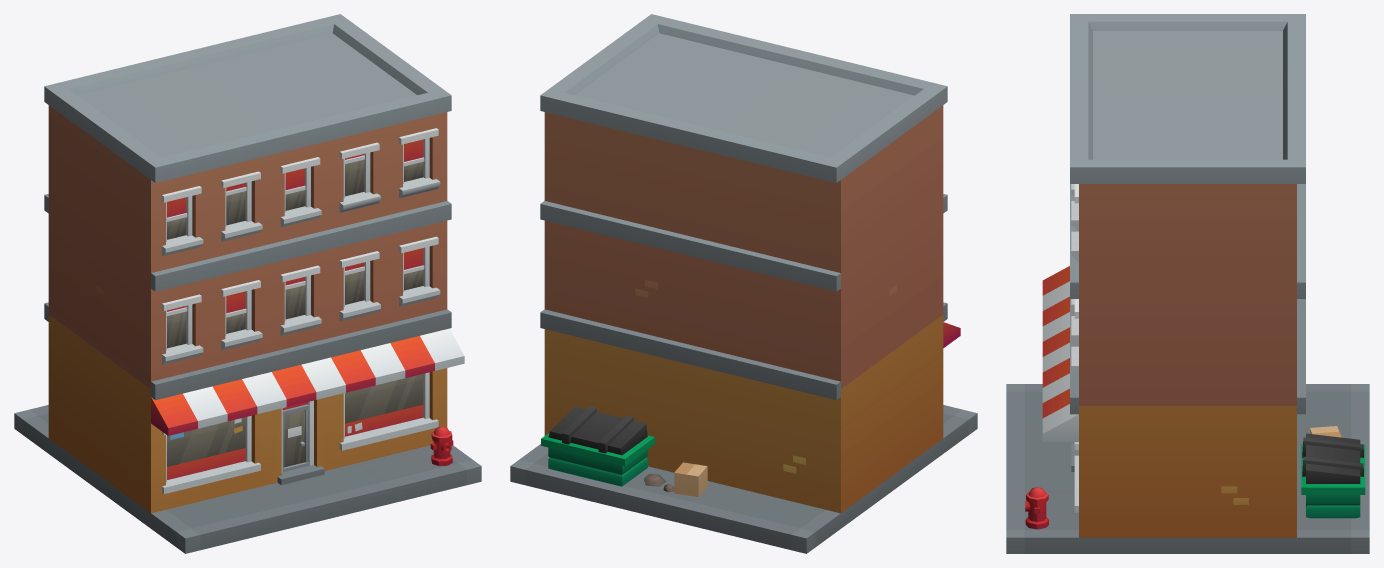
The model's file is town-building.glb.
3 views of the same model, side by side, from view 1: azimuth 30°, elevation 25°; view 2: azimuth 150°, elevation 25°; view 3: azimuth 270°, elevation 25° (orthographic). The views are drawn at different scales.
Visible parts, largest first — view 1: building_E; view 2: building_E; view 3: building_E.
Part boxes in pixels (x1,y1,x2,y2): building_E: (14,14,481,553); building_E: (510,14,977,553); building_E: (1006,14,1369,553).
Size of the model in its own units: 8.54 by 10 by 8.51.
Materials: 1 (1 with a texture image).
